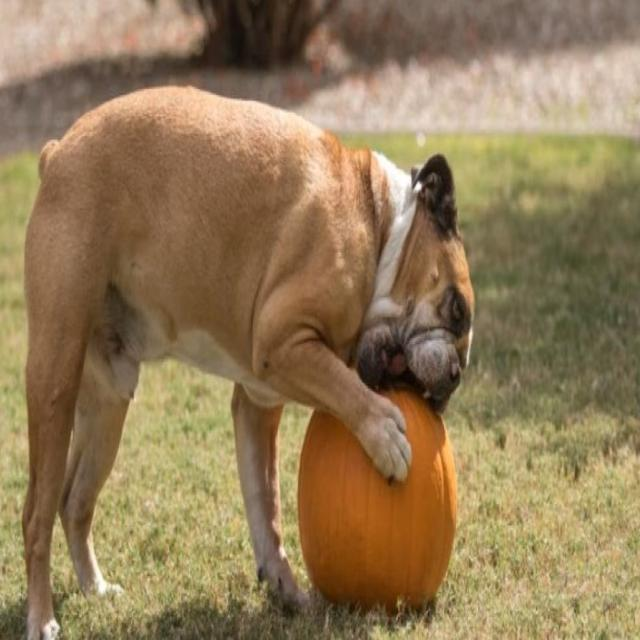pumpkin: (299, 391, 456, 609)
